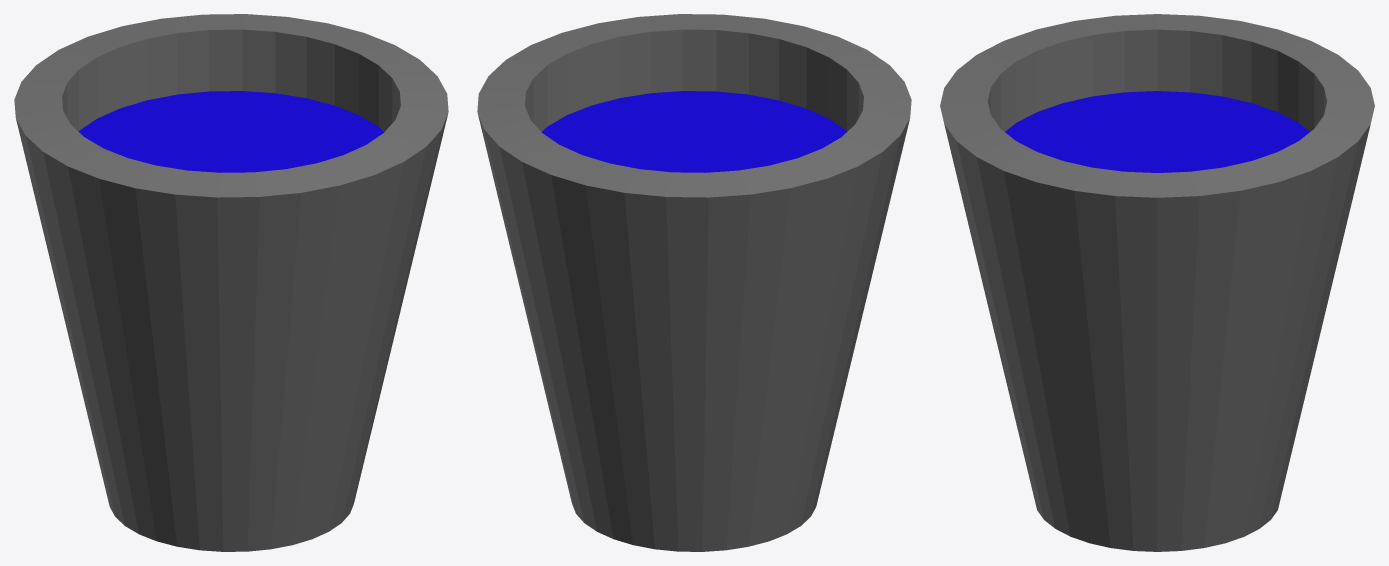
File: water.glb
3 renders of one model, left to right at view 1: azimuth 30°, elevation 25°; view 2: azimuth 150°, elevation 25°; view 3: azimuth 270°, elevation 25°, orthographic.
Parts seen in each view (by area): view 1: Cylinder; view 2: Cylinder; view 3: Cylinder.
Part boxes in pixels (left/top/right/bottom): Cylinder: left=14, top=14, right=448, bottom=551; Cylinder: left=477, top=14, right=911, bottom=551; Cylinder: left=940, top=14, right=1374, bottom=551.
Bounding box in the file's own units: 2 × 2.02 × 2.
